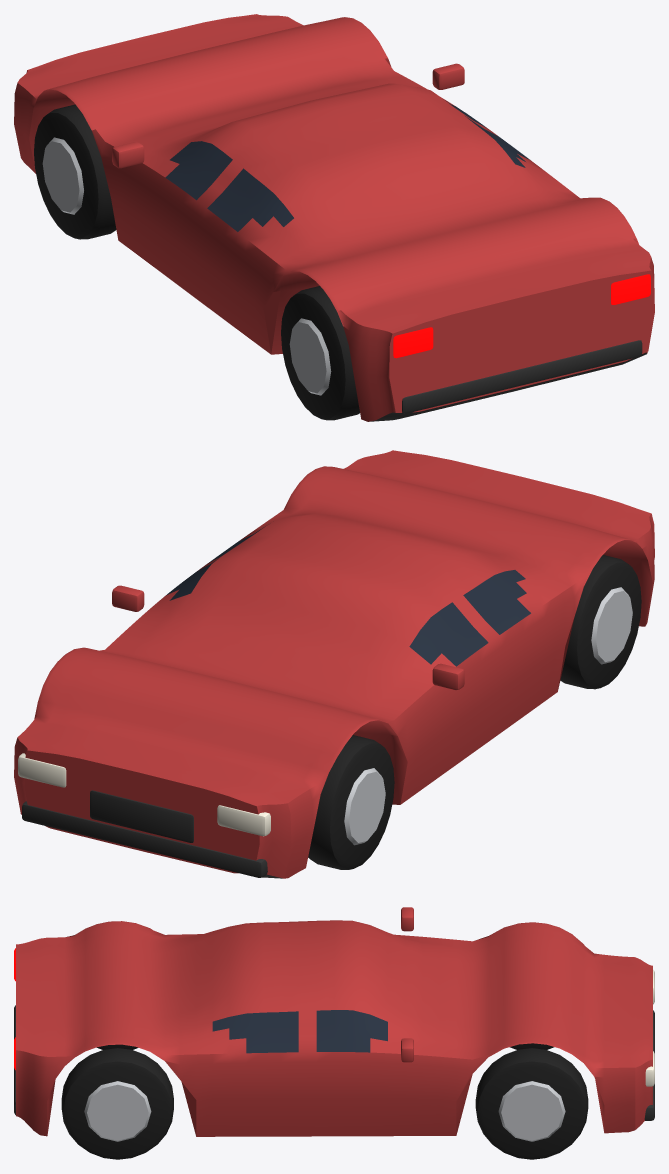
Rendered from Sportwagen.fbx.
3 renders of one model, top to bottom at view 1: azimuth 30°, elevation 25°; view 2: azimuth 150°, elevation 25°; view 3: azimuth 270°, elevation 25°, orthographic. The views are drawn at different scales.
Visible parts, largest first — view 1: Sportwagen_Body, Sportwagen_Tire, Sportwagen_Glass, Sportwagen_Trim, Sportwagen_Rim, Sportwagen_Taillight; view 2: Sportwagen_Body, Sportwagen_Tire, Sportwagen_Trim, Sportwagen_Glass, Sportwagen_Rim, Sportwagen_Headlight; view 3: Sportwagen_Body, Sportwagen_Tire, Sportwagen_Rim, Sportwagen_Glass, Sportwagen_Trim.
Part boxes in pixels (x1,y1,x2,y2): Sportwagen_Body: (14, 14, 654, 421); Sportwagen_Tire: (34, 104, 359, 420); Sportwagen_Glass: (165, 99, 529, 231); Sportwagen_Trim: (368, 340, 646, 421); Sportwagen_Rim: (42, 137, 331, 395); Sportwagen_Taillight: (393, 274, 650, 358); Sportwagen_Body: (14, 450, 654, 878); Sportwagen_Tire: (308, 555, 641, 869); Sportwagen_Trim: (22, 790, 282, 878); Sportwagen_Glass: (166, 526, 530, 666); Sportwagen_Rim: (344, 587, 632, 845); Sportwagen_Headlight: (18, 753, 270, 836); Sportwagen_Body: (16, 907, 652, 1136); Sportwagen_Tire: (61, 1043, 588, 1159); Sportwagen_Rim: (84, 1081, 565, 1141); Sportwagen_Glass: (212, 1010, 387, 1053); Sportwagen_Trim: (14, 1005, 654, 1120).
Size of the model in its own units: 8.98 by 4.39 by 17.1.
